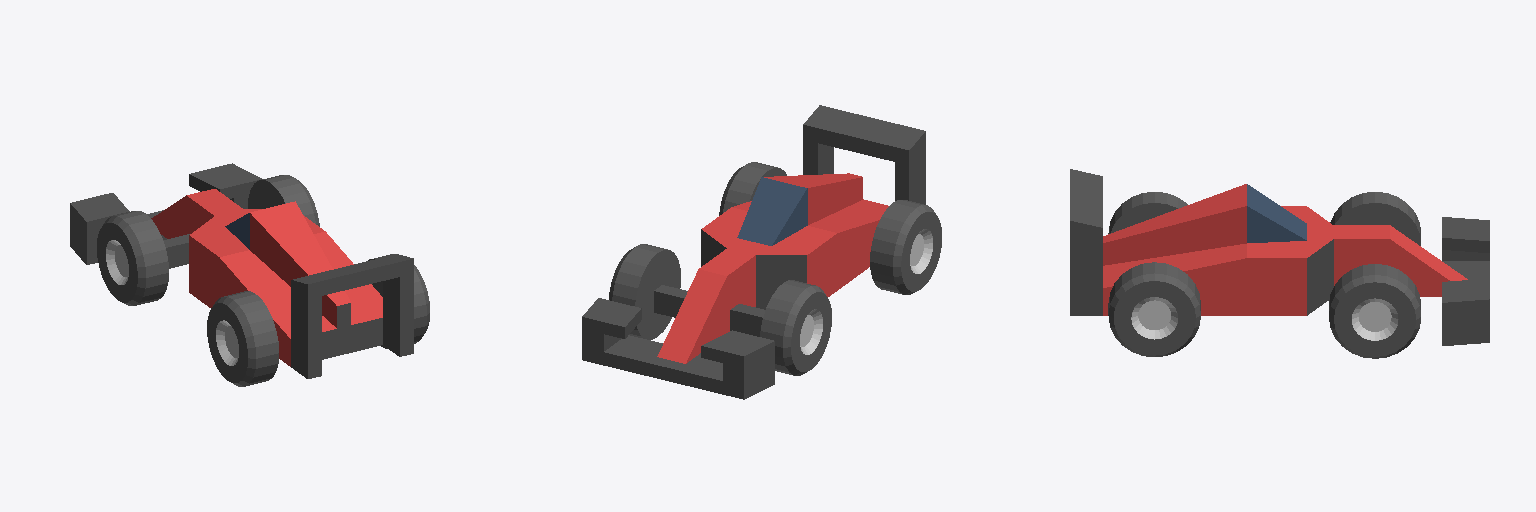
The model's file is carFormula.obj.
3 renders of one model, left to right at view 1: azimuth 30°, elevation 25°; view 2: azimuth 150°, elevation 25°; view 3: azimuth 270°, elevation 25°, orthographic.
Parts seen in each view (by area): view 1: body_2, wheelBackLeft_2, wheelFrontLeft_2, wheelFrontRight_2, wheelBackRight_2; view 2: body_2, wheelBackLeft_2, wheelFrontLeft_2, wheelFrontRight_2, wheelBackRight_2; view 3: body_2, wheelBackRight_2, wheelFrontRight_2, wheelFrontLeft_2, wheelBackLeft_2.
Part boxes in pixels (bbox=[...]): body_2: bbox=[70, 163, 413, 378]; wheelBackLeft_2: bbox=[207, 291, 278, 386]; wheelFrontLeft_2: bbox=[97, 211, 168, 305]; wheelFrontRight_2: bbox=[248, 175, 319, 226]; wheelBackRight_2: bbox=[368, 254, 429, 348]; body_2: bbox=[582, 105, 925, 399]; wheelBackLeft_2: bbox=[870, 200, 941, 294]; wheelFrontLeft_2: bbox=[760, 280, 831, 375]; wheelFrontRight_2: bbox=[609, 244, 680, 339]; wheelBackRight_2: bbox=[719, 162, 786, 215]; body_2: bbox=[1070, 169, 1489, 345]; wheelBackRight_2: bbox=[1108, 262, 1200, 356]; wheelFrontRight_2: bbox=[1329, 264, 1420, 358]; wheelFrontLeft_2: bbox=[1330, 192, 1420, 245]; wheelBackLeft_2: bbox=[1108, 192, 1187, 233].
Size of the model in its own units: 1.27 by 0.8159 by 2.53.